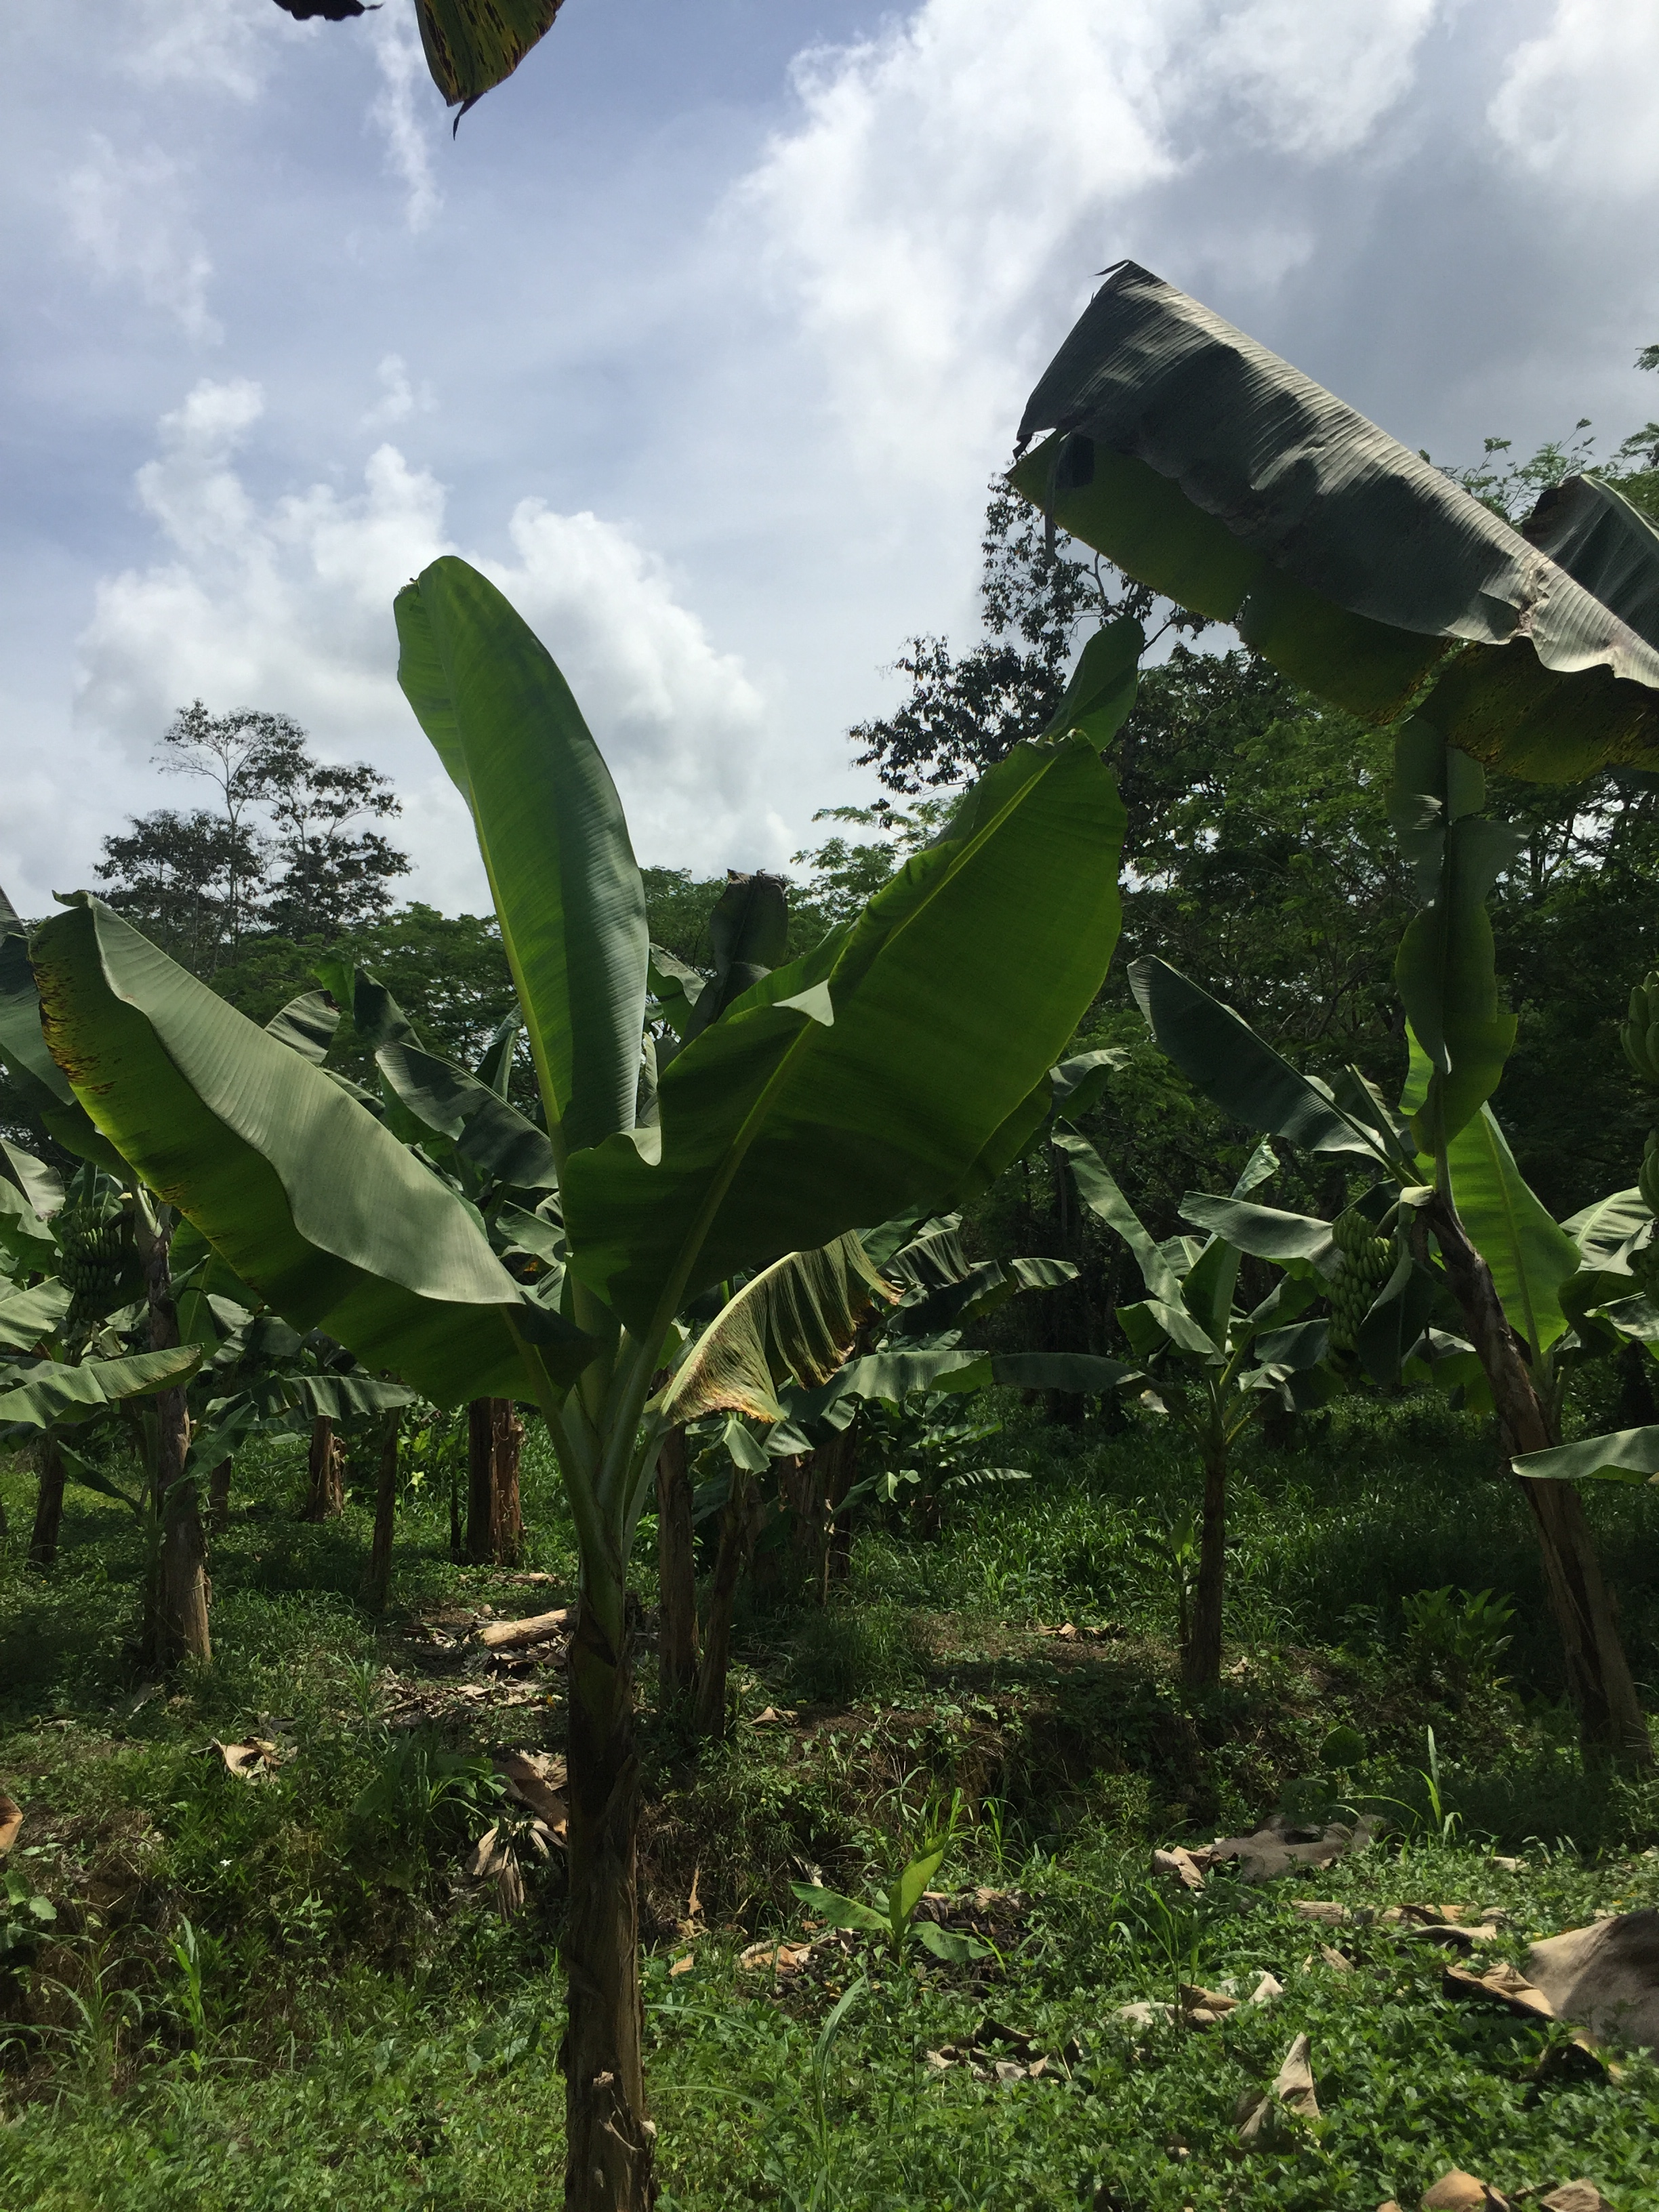candleleafs: (397, 557, 650, 1191)
